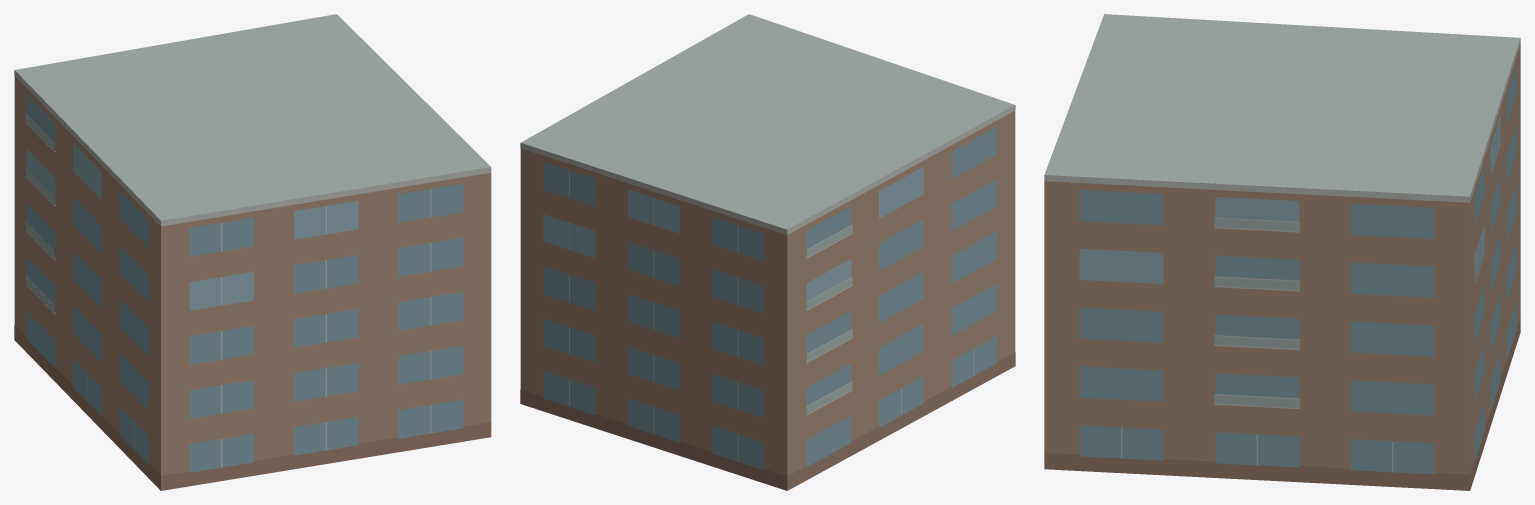
The model's file is survey-upis-32657533.glb.
3 renders of one model, left to right at view 1: azimuth 30°, elevation 25°; view 2: azimuth 150°, elevation 25°; view 3: azimuth 270°, elevation 25°, orthographic. The views are drawn at different scales.
Visible parts, largest first — view 1: survey-upis-32657533.tmp; view 2: survey-upis-32657533.tmp; view 3: survey-upis-32657533.tmp.
Part boxes in pixels (bbox=[...]): survey-upis-32657533.tmp: bbox=[14, 14, 491, 490]; survey-upis-32657533.tmp: bbox=[520, 14, 1015, 490]; survey-upis-32657533.tmp: bbox=[1044, 14, 1520, 490].
Bounding box in the file's own units: 15.6 × 11.7 × 17.18.
